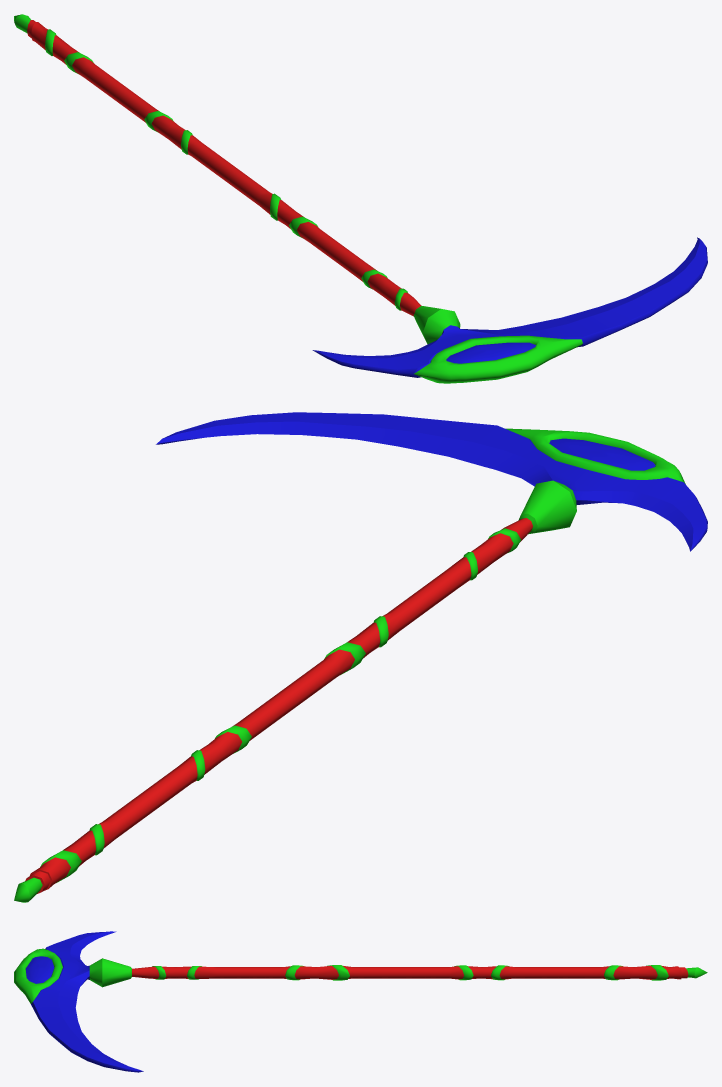
Rendered from Vibrato03.fbx.
The picture shows the model from 3 angles, top to bottom: view 1: azimuth 30°, elevation 25°; view 2: azimuth 150°, elevation 25°; view 3: azimuth 270°, elevation 25°; orthographic projection. The views are drawn at different scales.
Visible parts, largest first — view 1: Vibrato; view 2: Vibrato; view 3: Vibrato.
Part boxes in pixels (left/top/right/bottom): Vibrato: left=14, top=14, right=707, bottom=383; Vibrato: left=14, top=412, right=707, bottom=902; Vibrato: left=14, top=931, right=707, bottom=1072.
Size of the model in its own units: 227 by 21.15 by 476.
